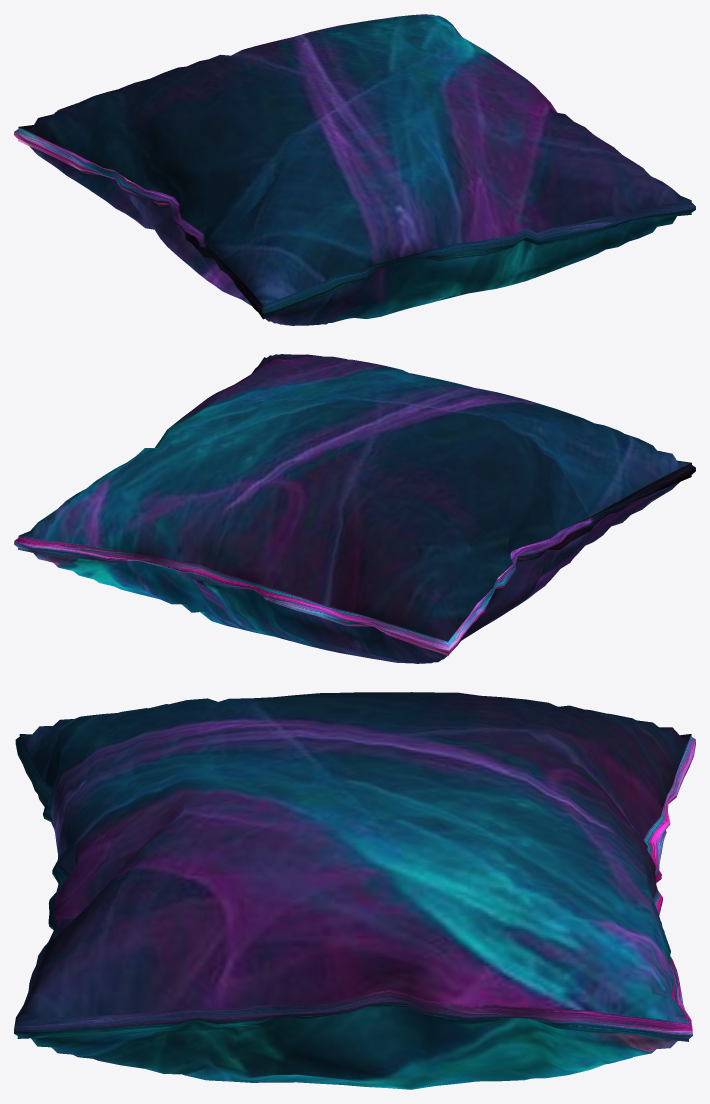
3 views of the same model, one above another, from view 1: azimuth 30°, elevation 25°; view 2: azimuth 150°, elevation 25°; view 3: azimuth 270°, elevation 25° (orthographic). The views are drawn at different scales.
Parts seen in each view (by area): view 1: Cube; view 2: Cube; view 3: Cube.
Part boxes in pixels (left/top/right/bottom): Cube: left=14, top=14, right=695, bottom=325; Cube: left=14, top=354, right=695, bottom=663; Cube: left=14, top=692, right=695, bottom=1089.
Bounding box in the file's own units: 1.95 × 0.8063 × 1.92.
Materials: 1 (1 with a texture image).
